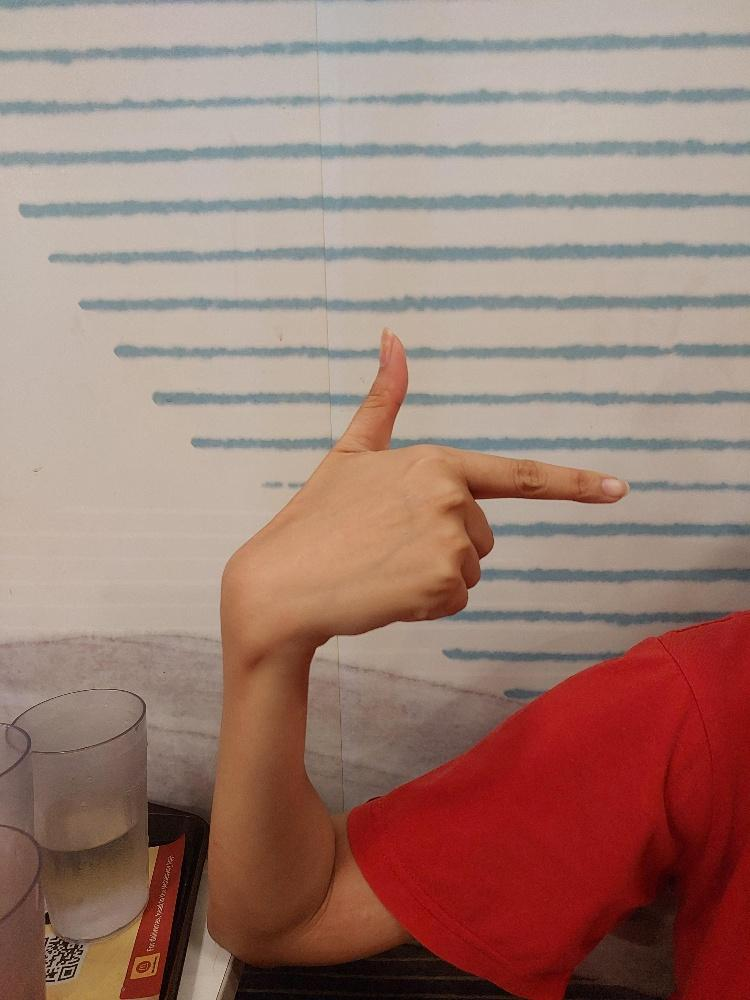g: (216, 323, 631, 648)
